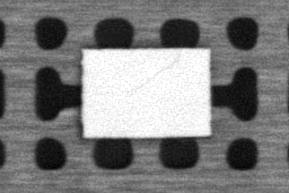DIE_CRACK: (137, 54, 179, 90)
